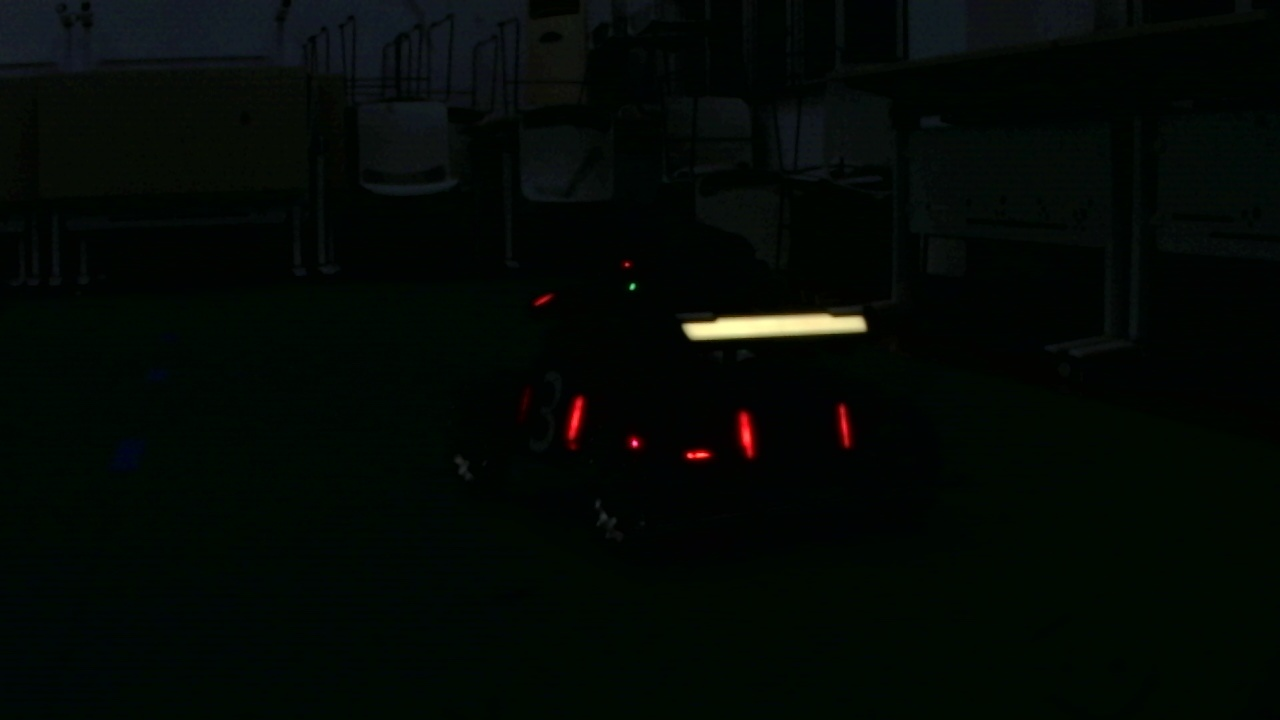lamp: (563, 388, 588, 448), (734, 400, 757, 458), (835, 398, 855, 451)
notpair1: (566, 390, 758, 465)
pair1: (736, 402, 853, 460)
